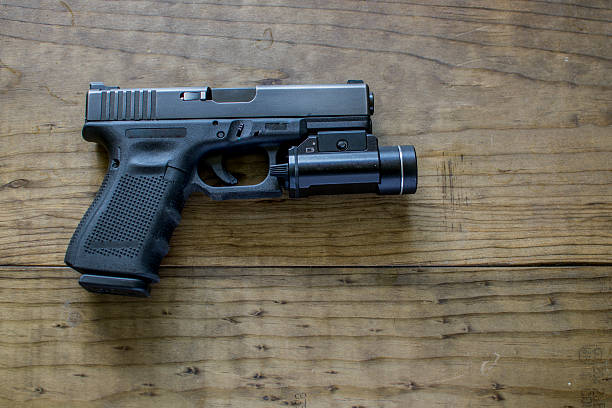gun: (63, 75, 421, 297)
